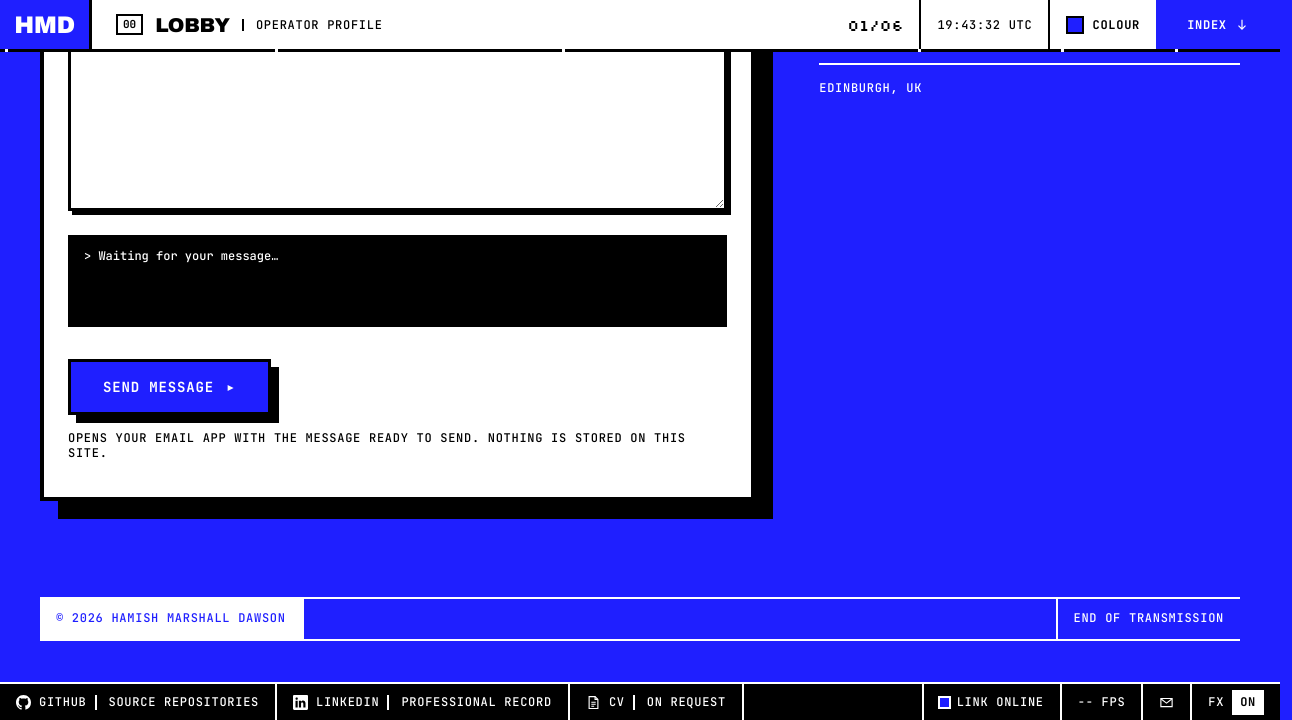
Test: contact form refuses an incomplete message
(page scrolled)
Click the button "Send message ▸". click: x=170, y=387
box: [68, 359, 271, 415]
(page scrolled)
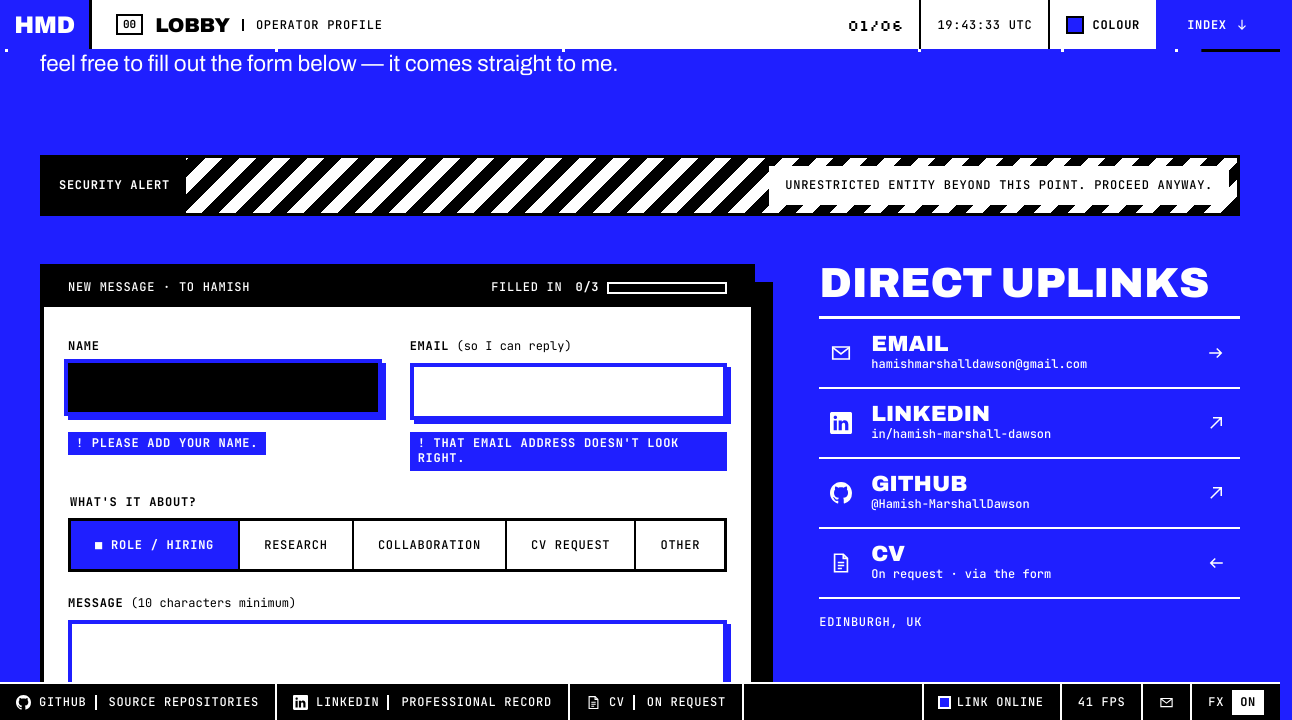
Check: the text "! Please add your name." is shown, box [68, 432, 266, 455]
Check: the text "! That email address doesn't look right." is shown, box [410, 432, 727, 471]
